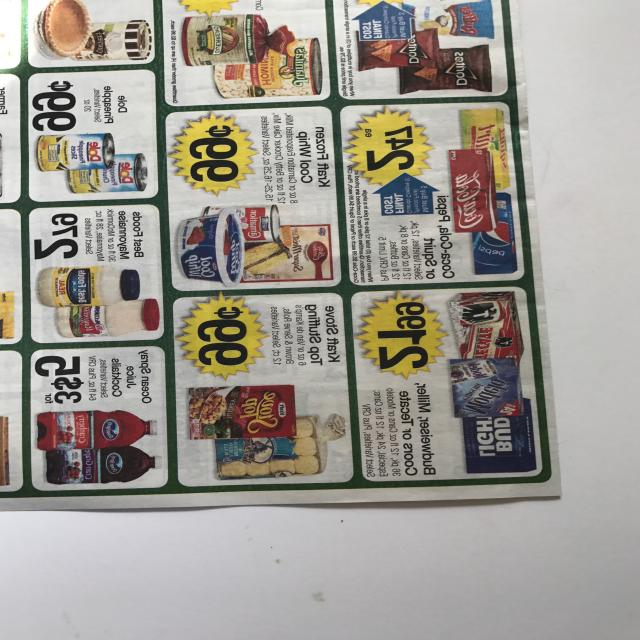paper: (0, 0, 596, 572)
